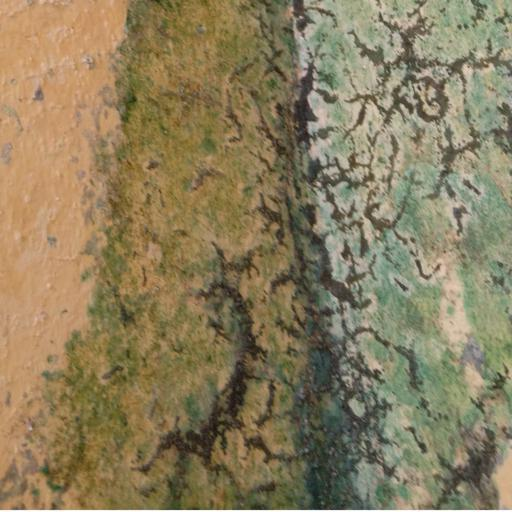algae: (72, 0, 512, 512)
